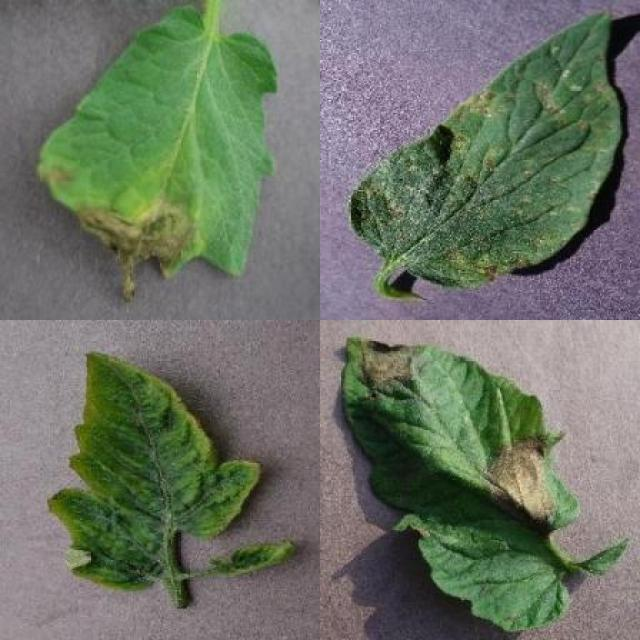Late Blight: (32, 5, 278, 298), (340, 335, 580, 632)
Septoria: (348, 9, 622, 287)
Yellow Leaf Curl Virus: (47, 349, 263, 591), (211, 538, 299, 578)
